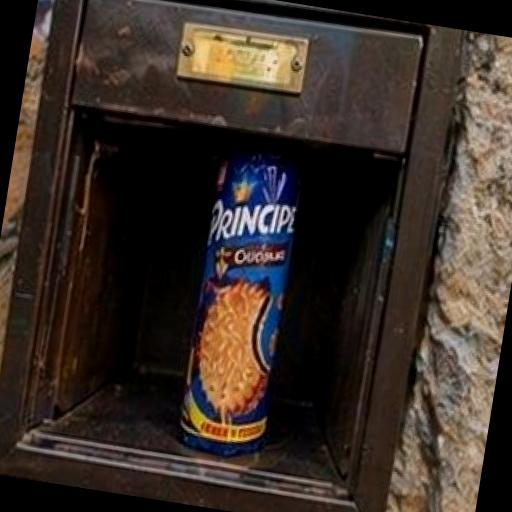prince: (61, 44, 422, 512)
